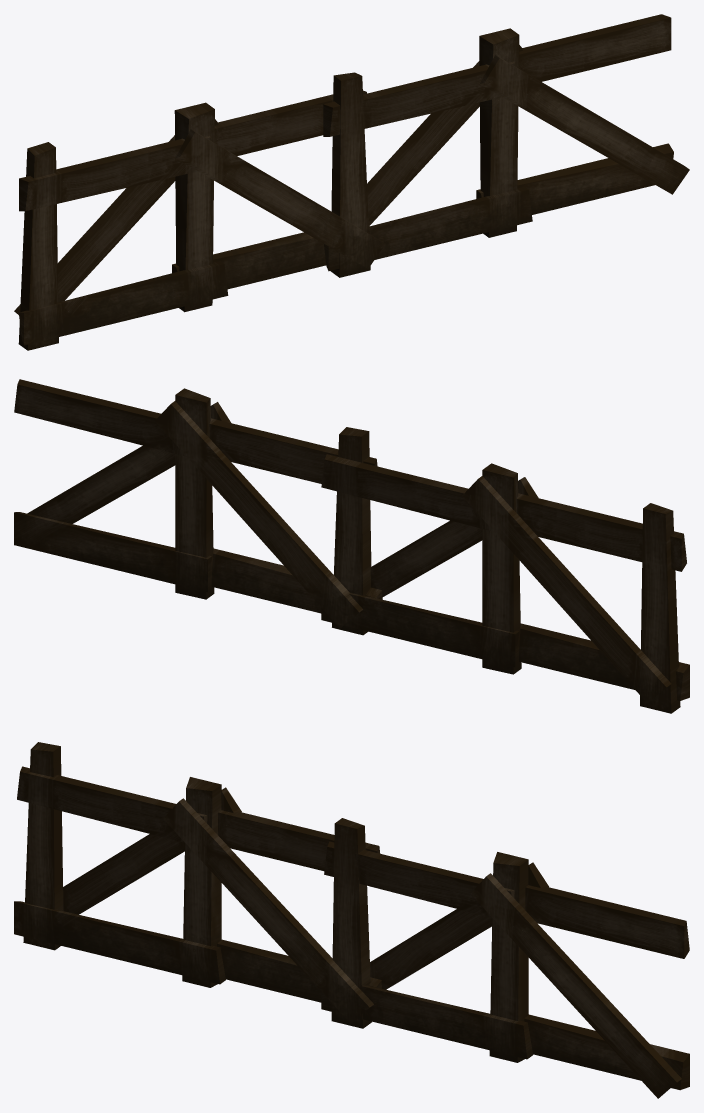
The model's file is ruraltown_square_fence.fbx.
3 views of the same model, one above another, from view 1: azimuth 30°, elevation 25°; view 2: azimuth 150°, elevation 25°; view 3: azimuth 330°, elevation 25° (orthographic).
Parts seen in each view (by area): view 1: fence; view 2: fence; view 3: fence.
Part boxes in pixels (x1,y1,x2,y2): fence: (14, 14, 689, 350); fence: (14, 379, 689, 713); fence: (14, 742, 689, 1098).
Size of the model in its own units: 424 by 120 by 24.86.
